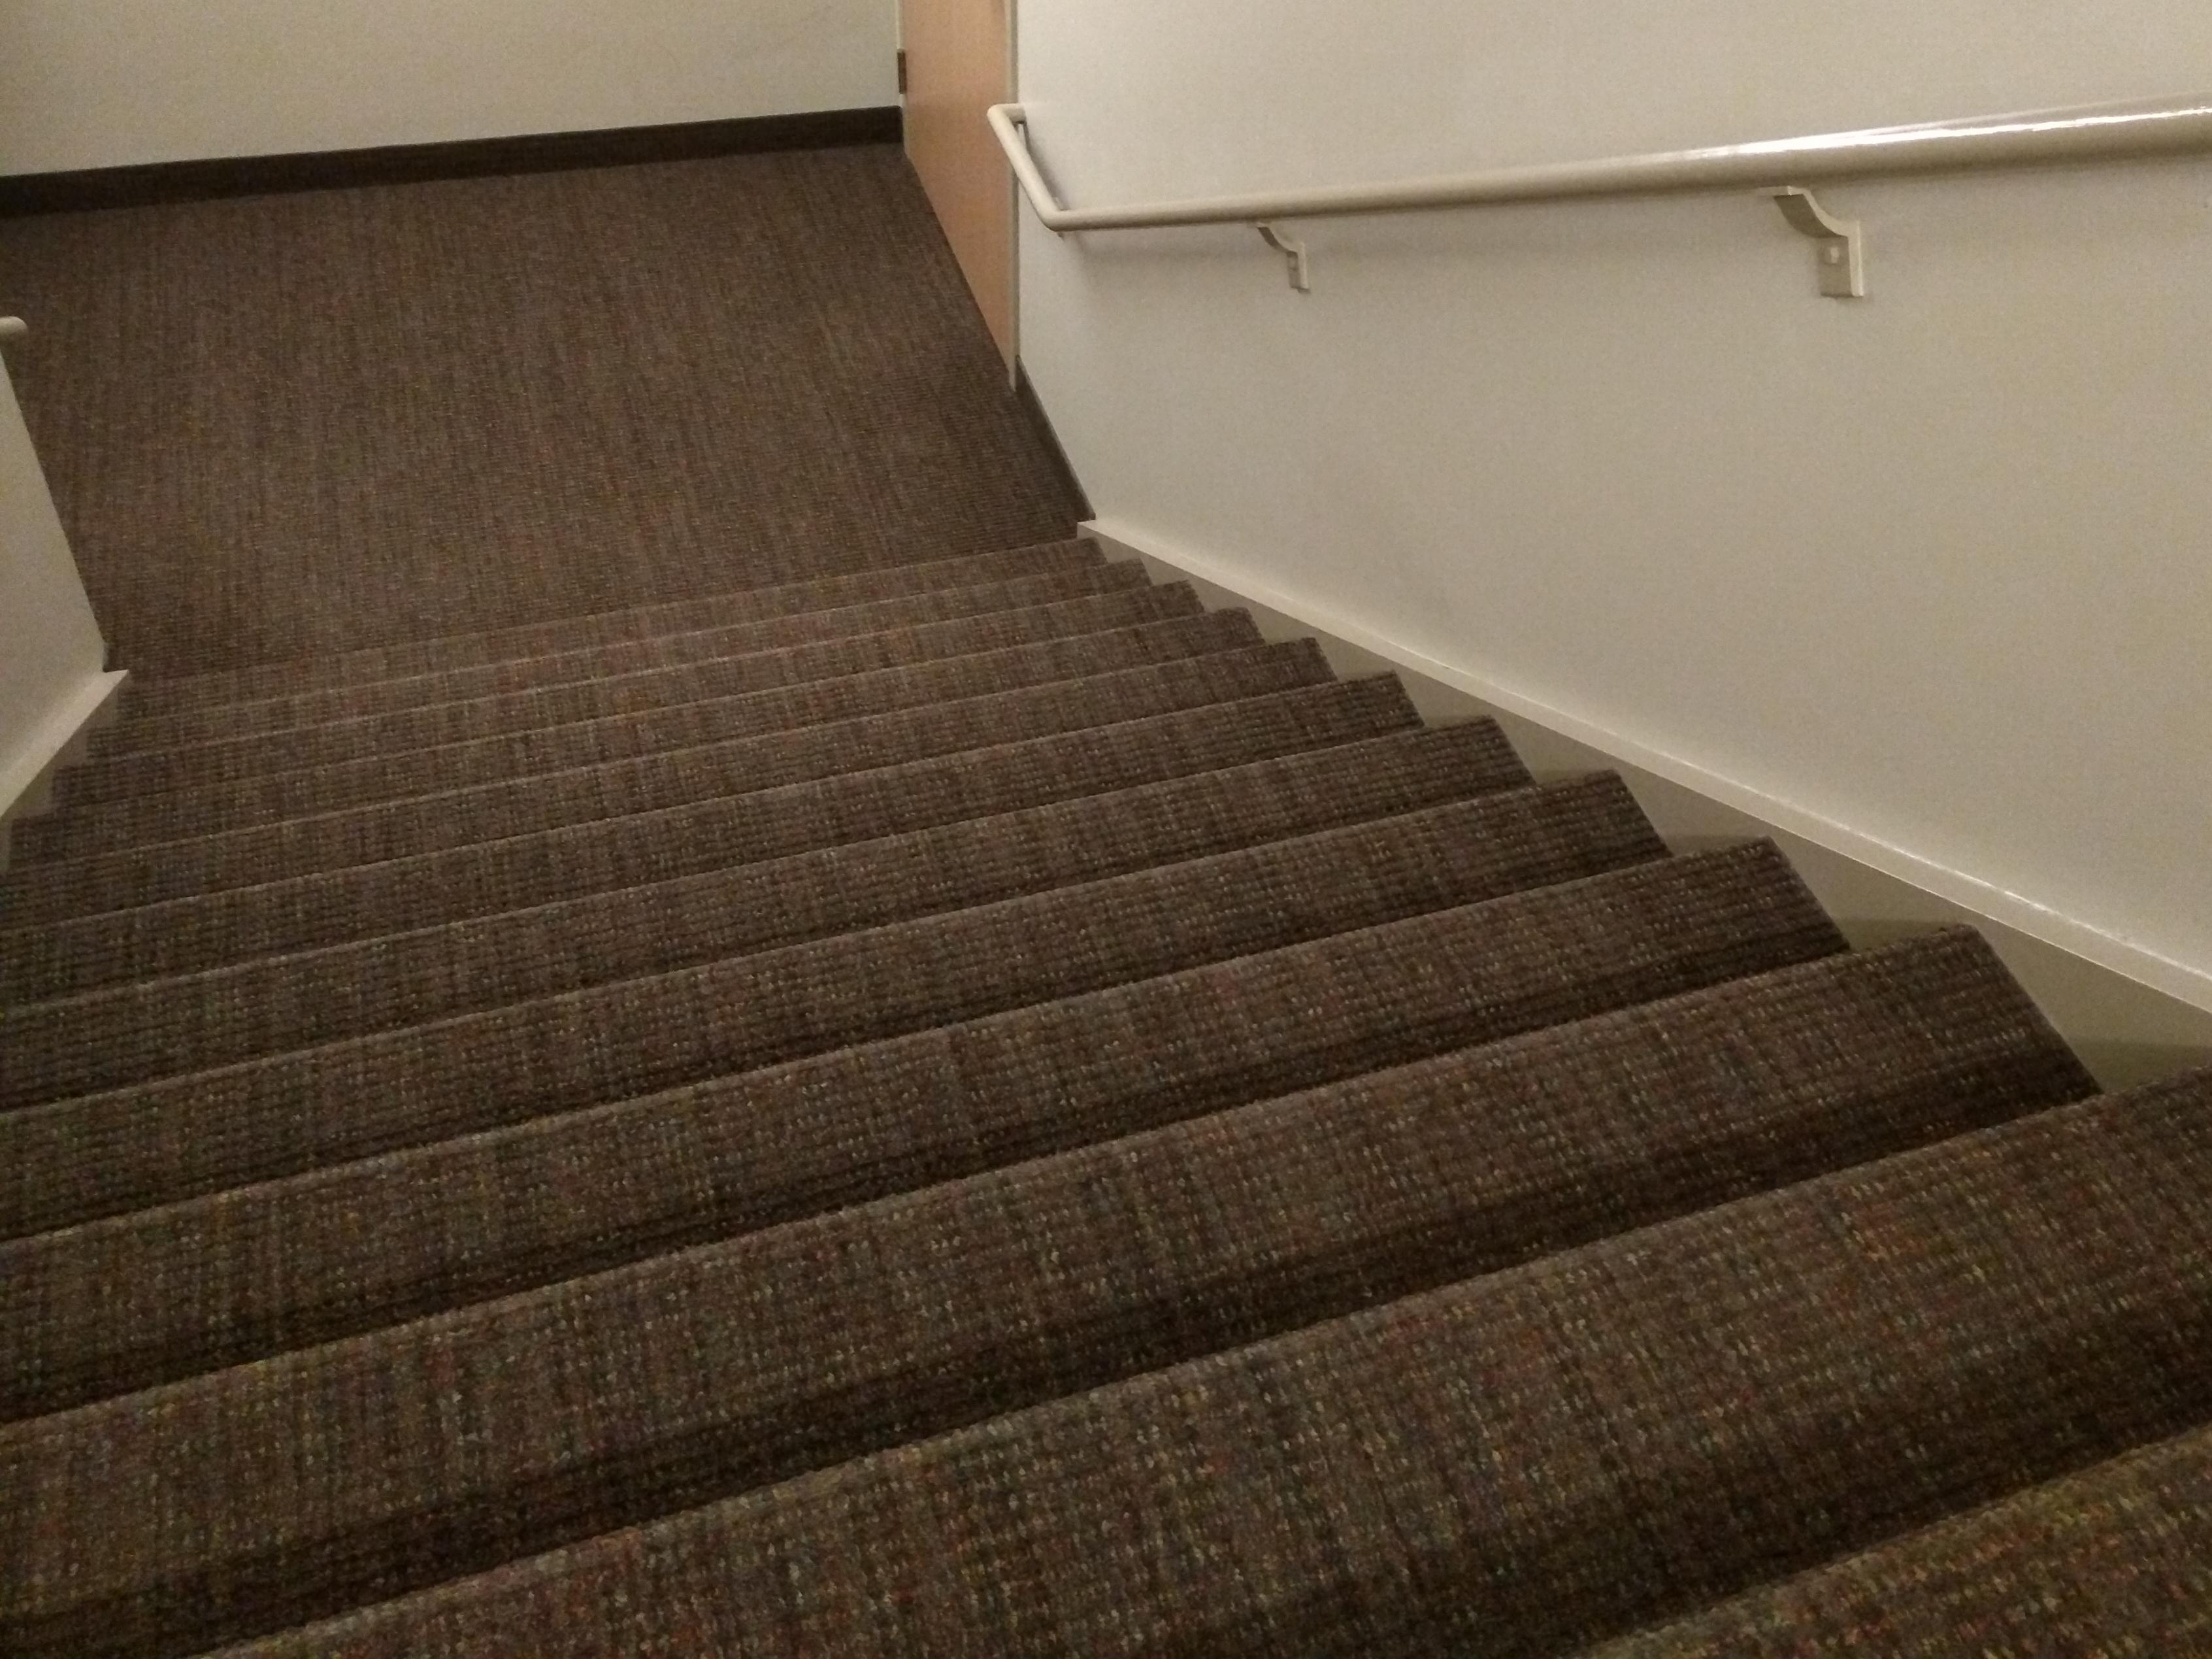stairs_down: (7, 523, 2212, 1659)
